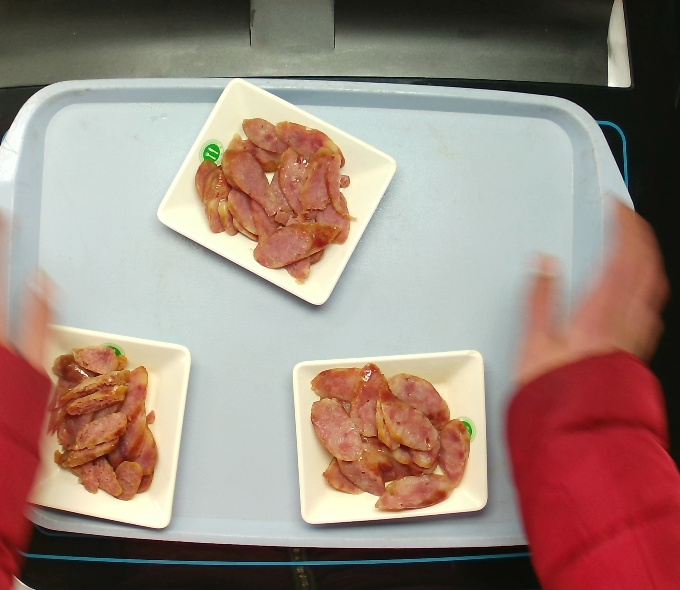wcq-QiePianXiangChang: (196, 112, 353, 280), (309, 364, 481, 510), (48, 334, 163, 498)
